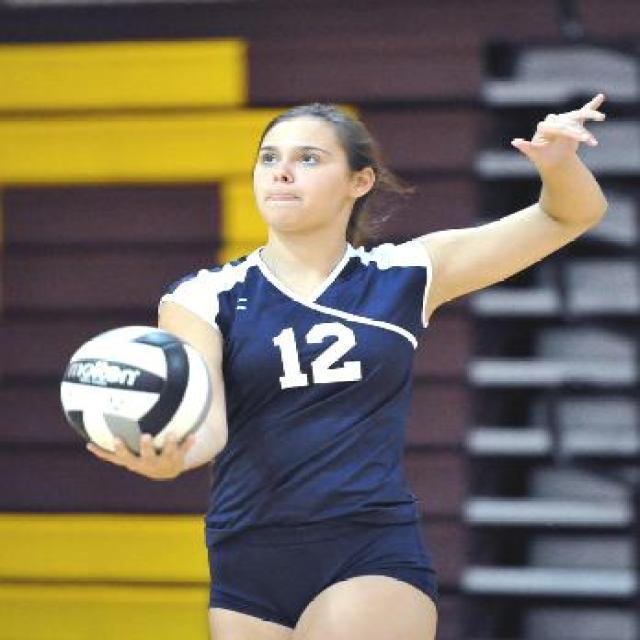volleyball: (61, 324, 213, 458)
